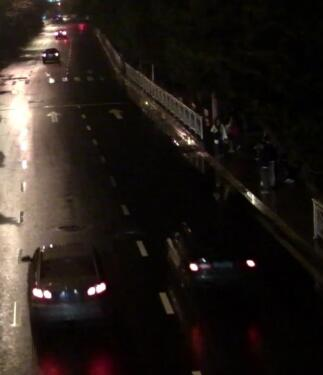car: (19, 243, 109, 334), (163, 218, 262, 299), (51, 27, 69, 41), (41, 49, 60, 62)
